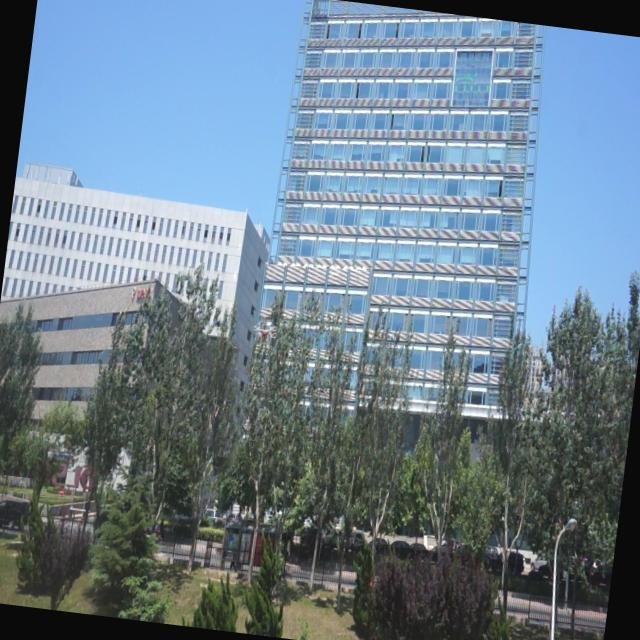drone: (250, 320, 278, 346)
